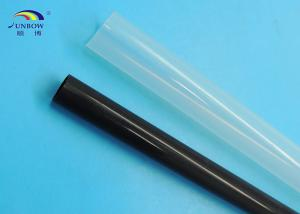Nonrec_Plastic: (23, 8, 300, 211)
